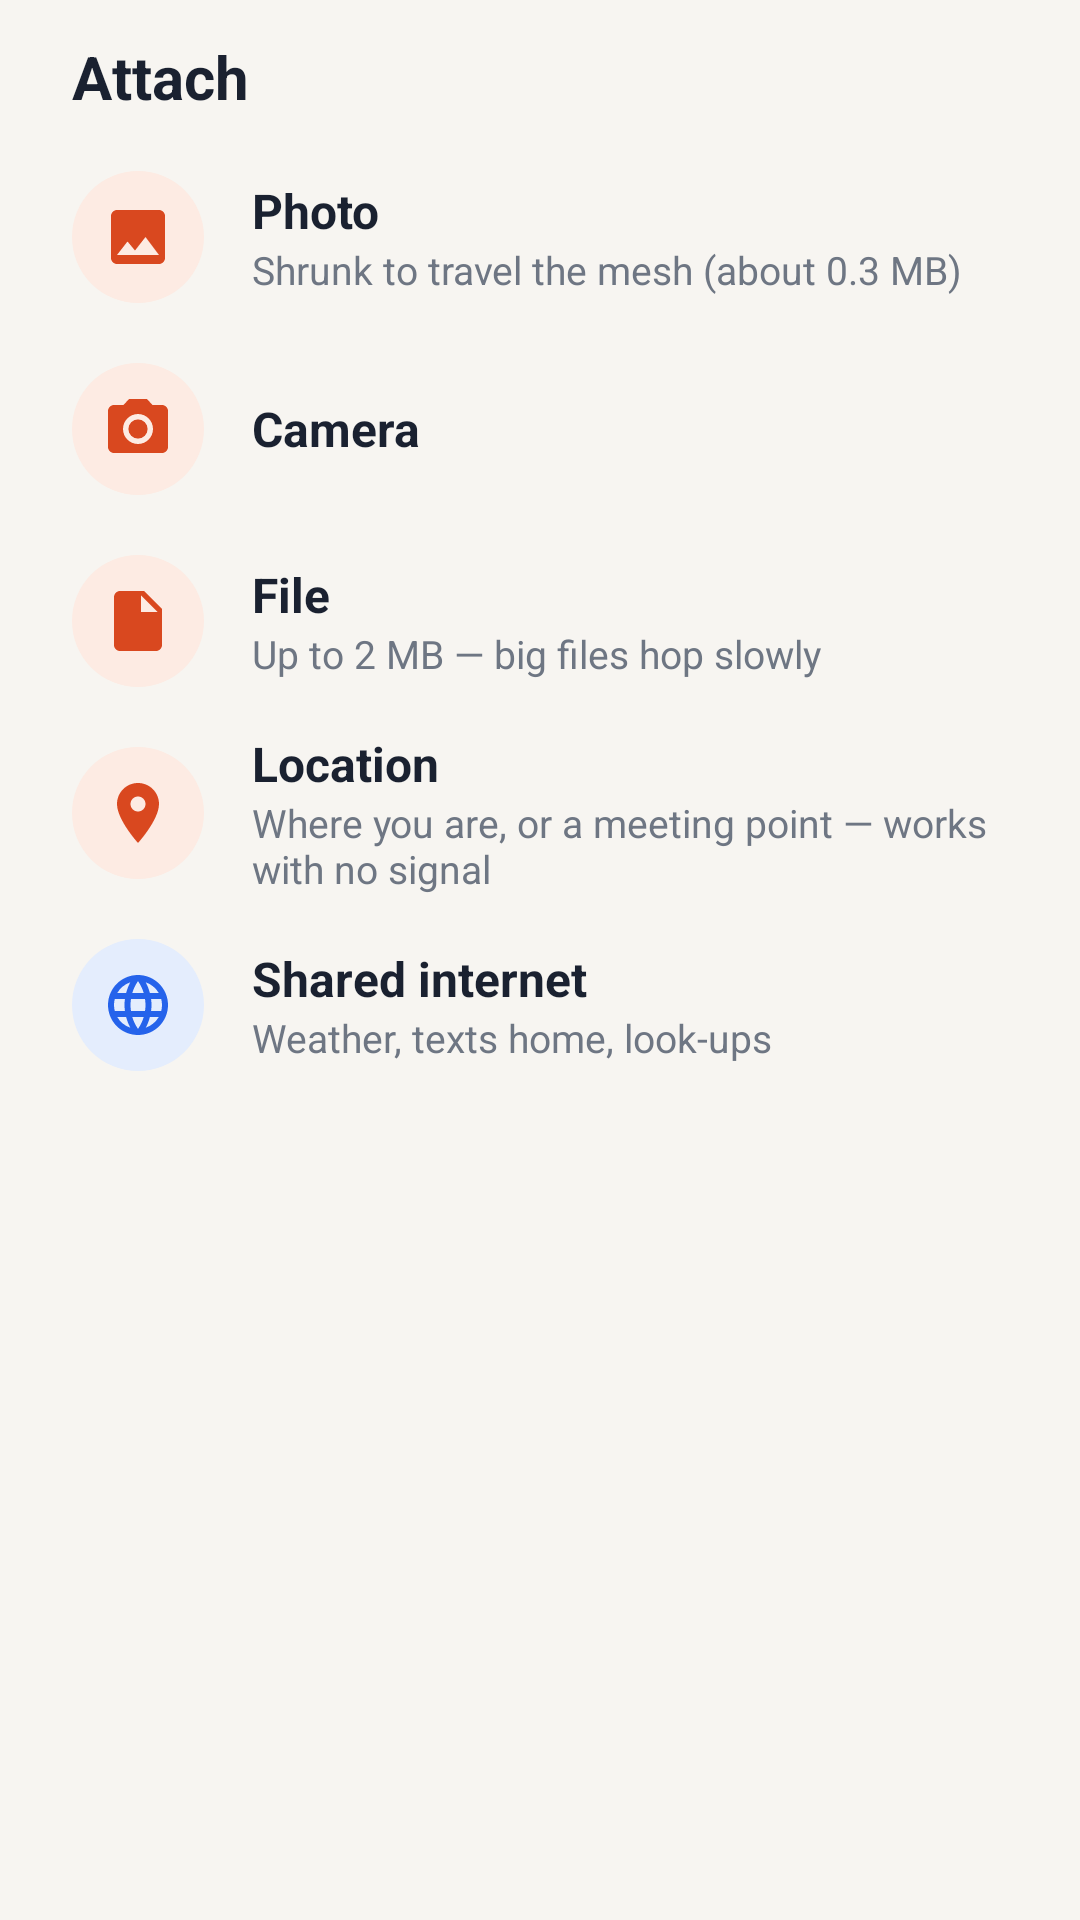

Screen size 1080 x 1920. Icon name, then its center in pixels as [x,y]:
globe: [138,1005]
